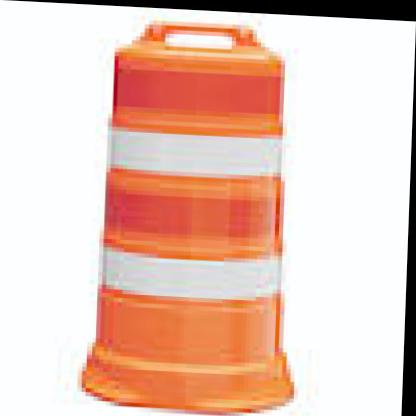obstacle: (96, 13, 308, 416)
